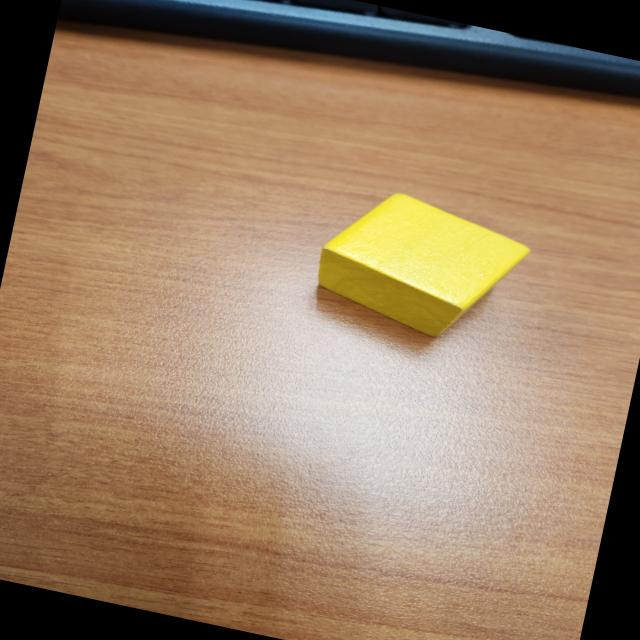yellow: (301, 177, 539, 359)
